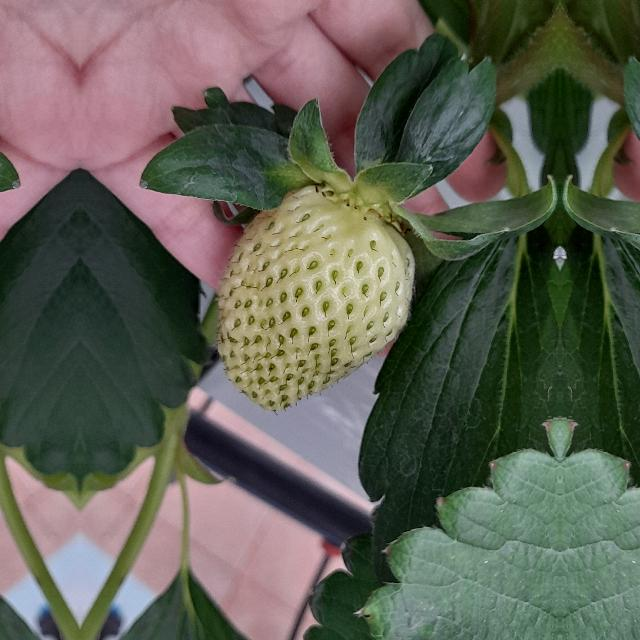Health_25: (217, 185, 415, 411)
